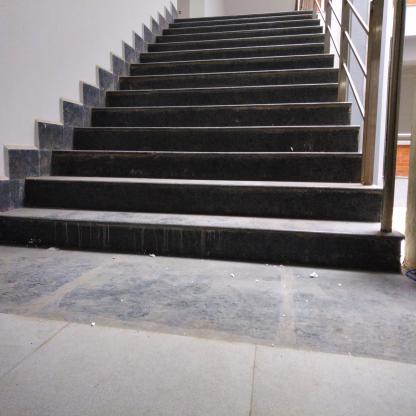stairs: (182, 22, 320, 270)
